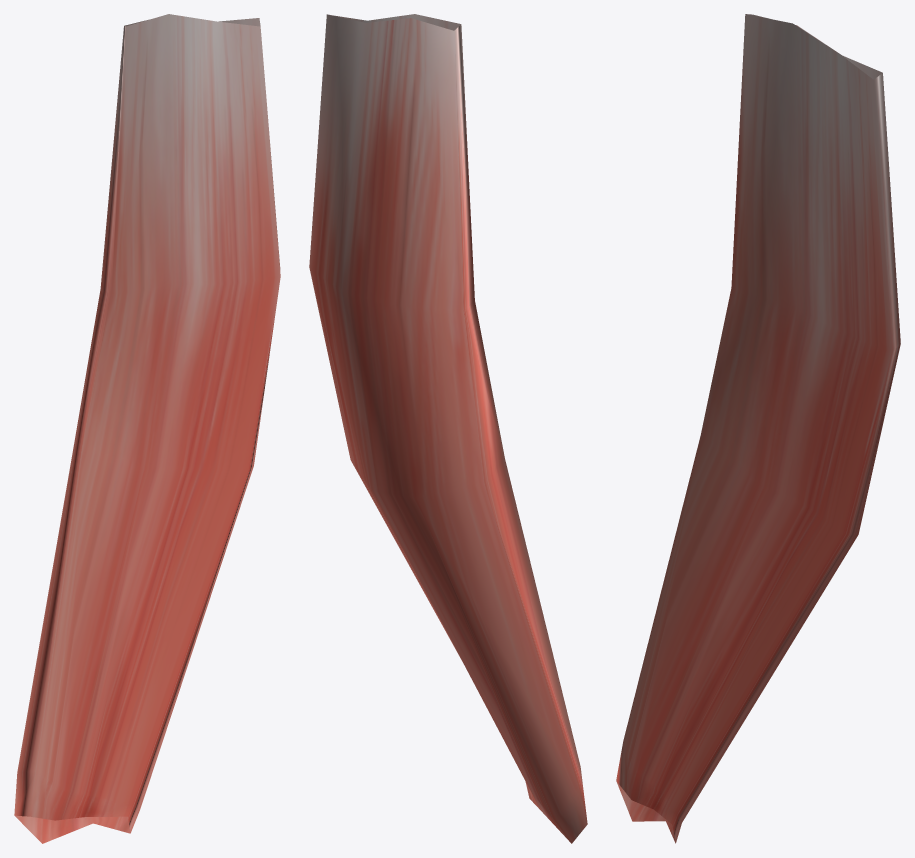
The model's file is Rectus_Capitis_Major_Muscle_Left.obj.
3 renders of one model, left to right at view 1: azimuth 30°, elevation 25°; view 2: azimuth 150°, elevation 25°; view 3: azimuth 330°, elevation 25°, orthographic. The views are drawn at different scales.
Visible parts, largest first — view 1: Thyrohyoid_Muscle_Right:Thyrohyoid_Muscle_Right_Mesh Thyrohyoid_; view 2: Thyrohyoid_Muscle_Right:Thyrohyoid_Muscle_Right_Mesh Thyrohyoid_; view 3: Thyrohyoid_Muscle_Right:Thyrohyoid_Muscle_Right_Mesh Thyrohyoid_.
Part boxes in pixels (box(x1,y1,x2,y2)): Thyrohyoid_Muscle_Right:Thyrohyoid_Muscle_Right_Mesh Thyrohyoid_: box(14, 14, 280, 843); Thyrohyoid_Muscle_Right:Thyrohyoid_Muscle_Right_Mesh Thyrohyoid_: box(309, 14, 587, 843); Thyrohyoid_Muscle_Right:Thyrohyoid_Muscle_Right_Mesh Thyrohyoid_: box(616, 14, 900, 843).
Size of the model in its own units: 0.1978 by 0.5526 by 0.0707.
